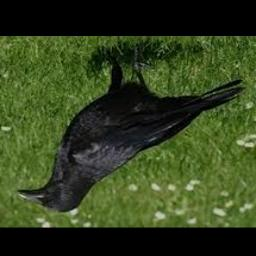Crow: (15, 49, 245, 213)
